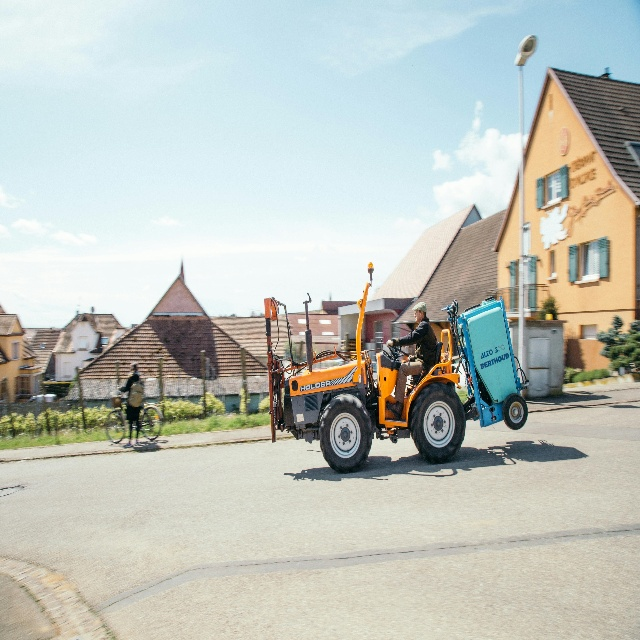Guantes: (386, 339, 393, 349), (408, 354, 415, 362)
